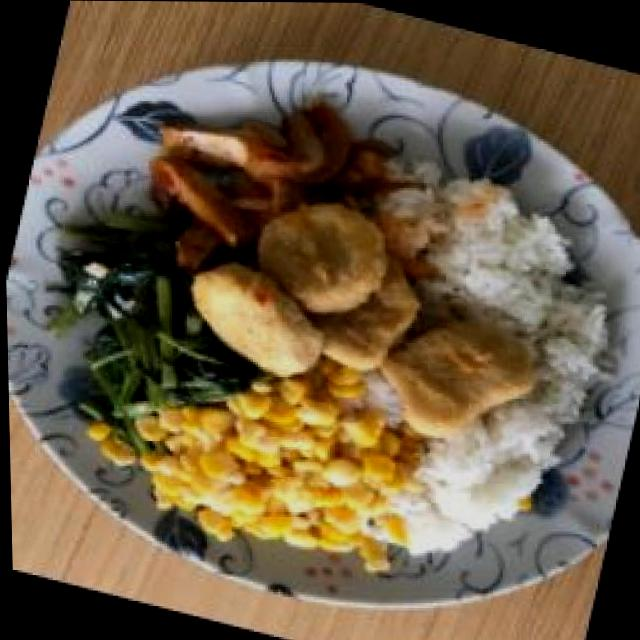chicken_nuggets: (178, 176, 437, 403), (355, 297, 546, 458)
rice: (401, 170, 629, 352)
water_spinach: (26, 198, 246, 454)
